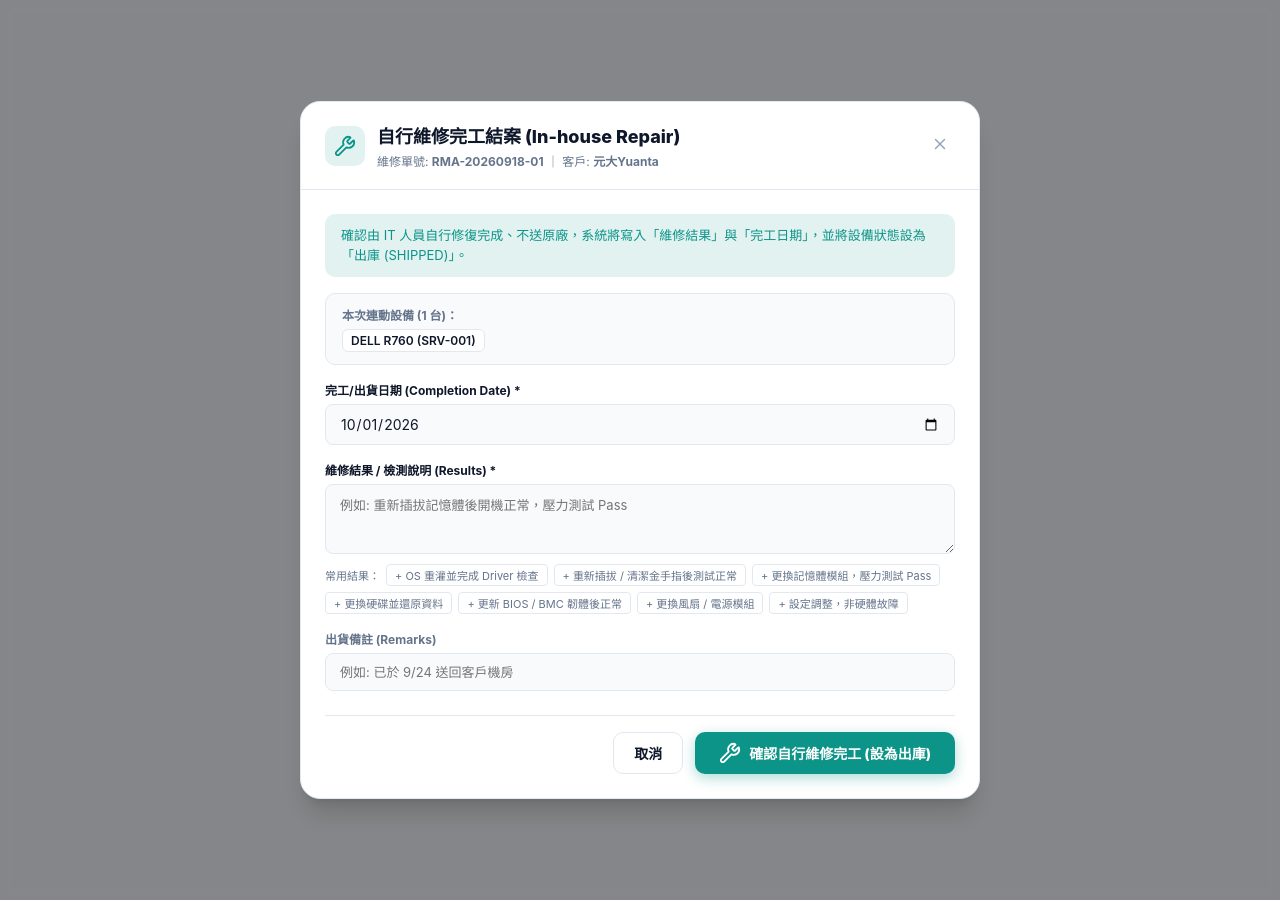
Scenario: 自行維修完工彈窗 › 單據狀態已被別人改過時明確擋下，不會動到設備狀態
Type "測試" into the text box with placeholder "例如: 重新插拔記憶體後開機正常，壓力測試 Pass" at (640, 519), box top-left (325, 484), bottom-right (955, 554)
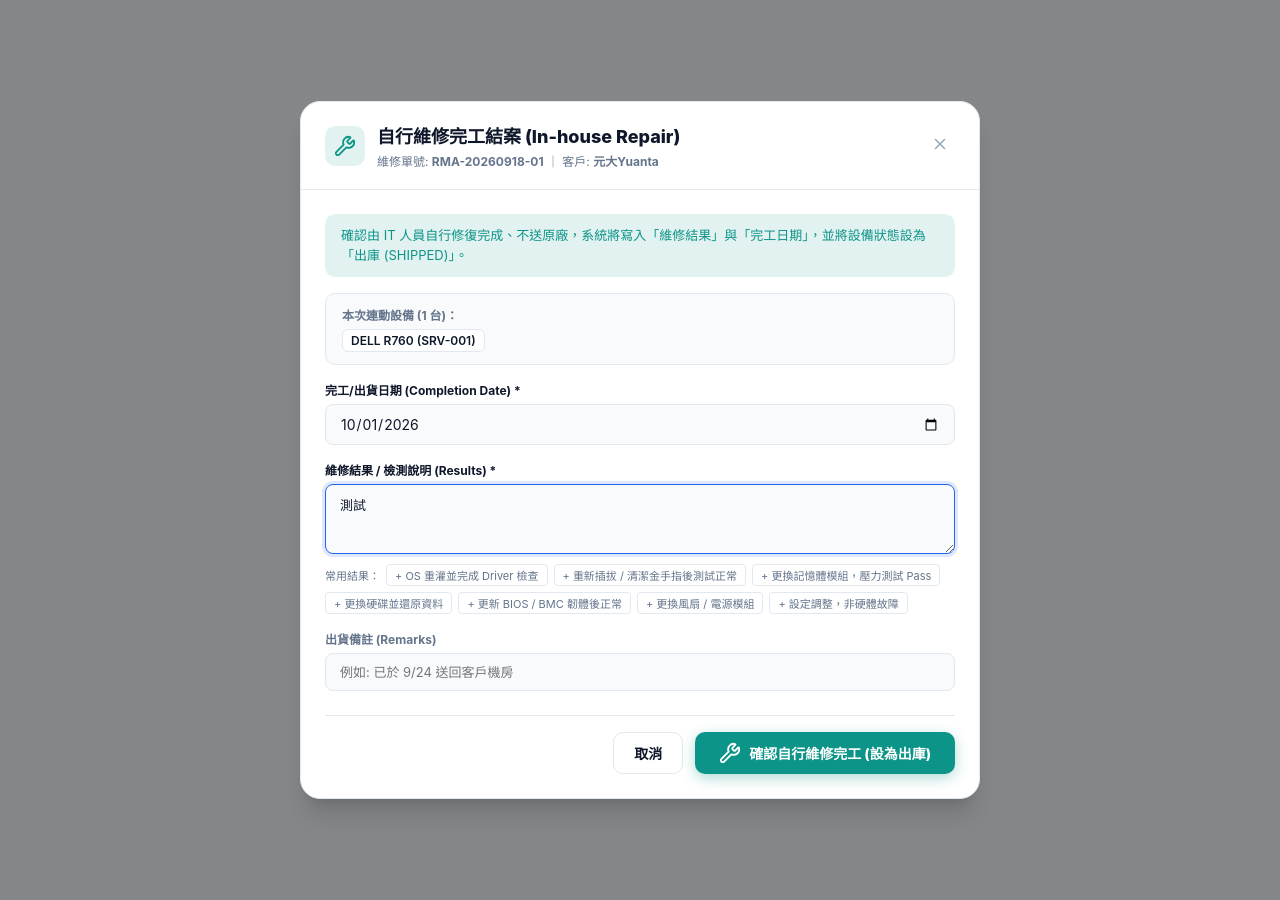
Click the button "確認自行維修完工 (設為出庫)" at (825, 753), box top-left (695, 732), bottom-right (955, 774)
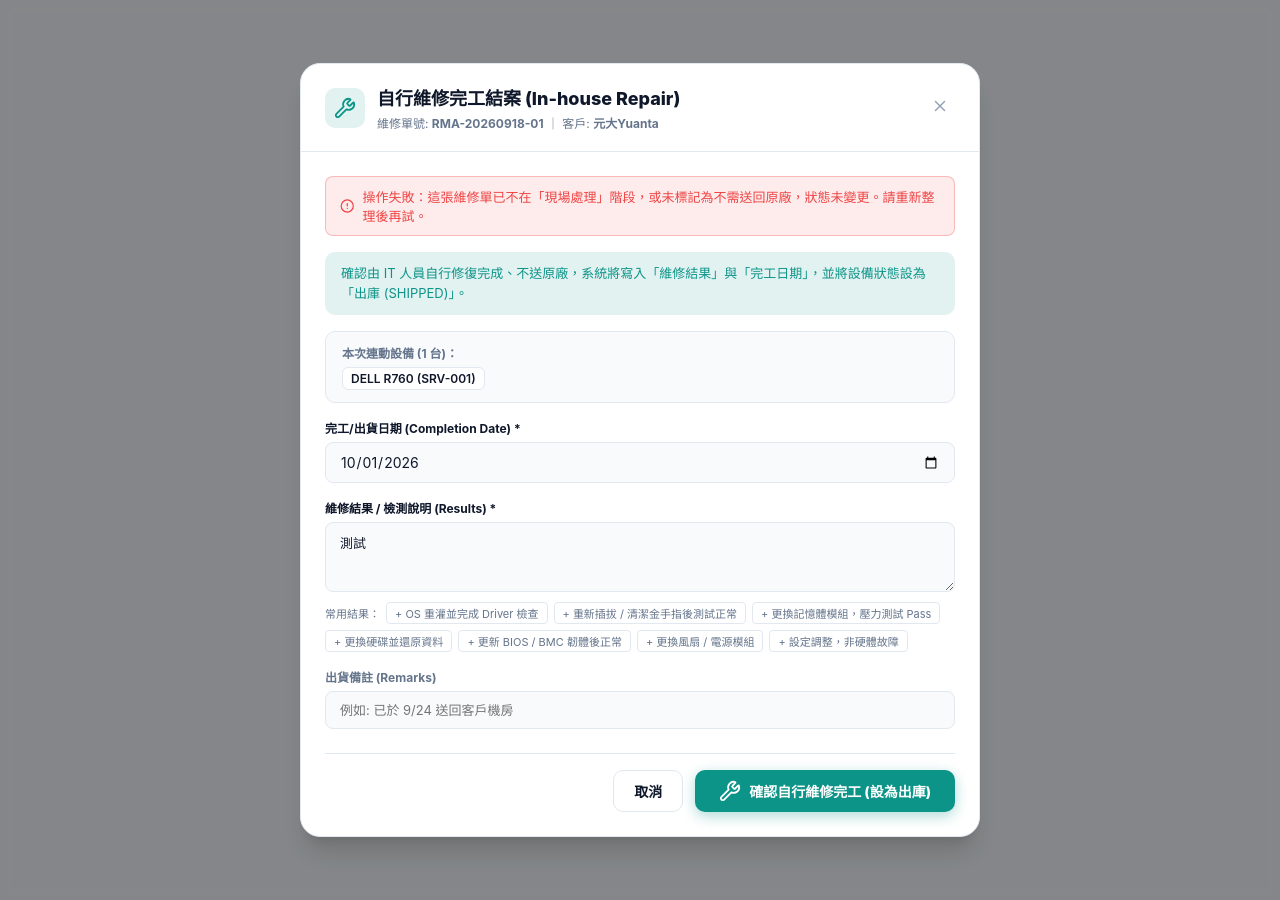
Check: the text "操作失敗：這張維修單已不在「現場處理」階段，或未標記為不需送回原廠，狀態未變更。請重新整理後再試。" is shown, box top-left (325, 176), bottom-right (955, 236)
